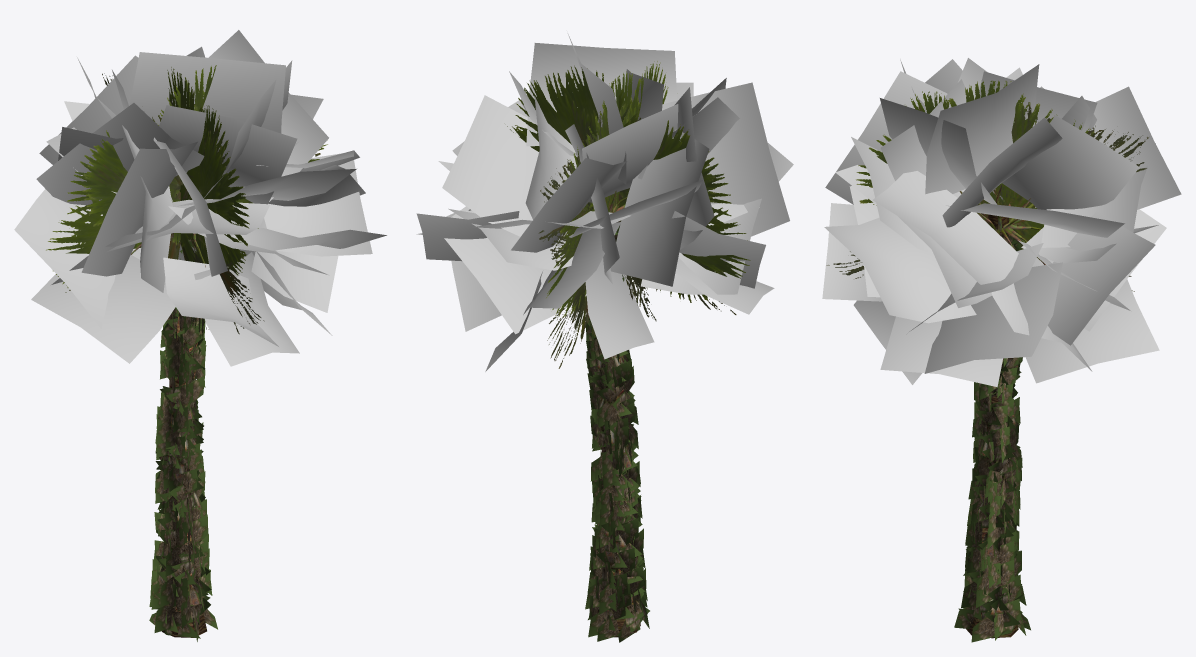
Rendered from Windmill2.fbx.
3 renders of one model, left to right at view 1: azimuth 30°, elevation 25°; view 2: azimuth 150°, elevation 25°; view 3: azimuth 270°, elevation 25°, orthographic.
Visible parts, largest first — view 1: LOD0, Billboard; view 2: LOD0, Billboard; view 3: LOD0, Billboard.
Boxes of the visible parts, x1,y1,x2,y2 form: LOD0: (14, 30, 386, 641); Billboard: (46, 65, 327, 629); LOD0: (416, 33, 793, 642); Billboard: (507, 61, 750, 621); LOD0: (822, 58, 1181, 642); Billboard: (826, 80, 1148, 513).
Size of what is drawn, in the model's own units: 265 by 418 by 244.
